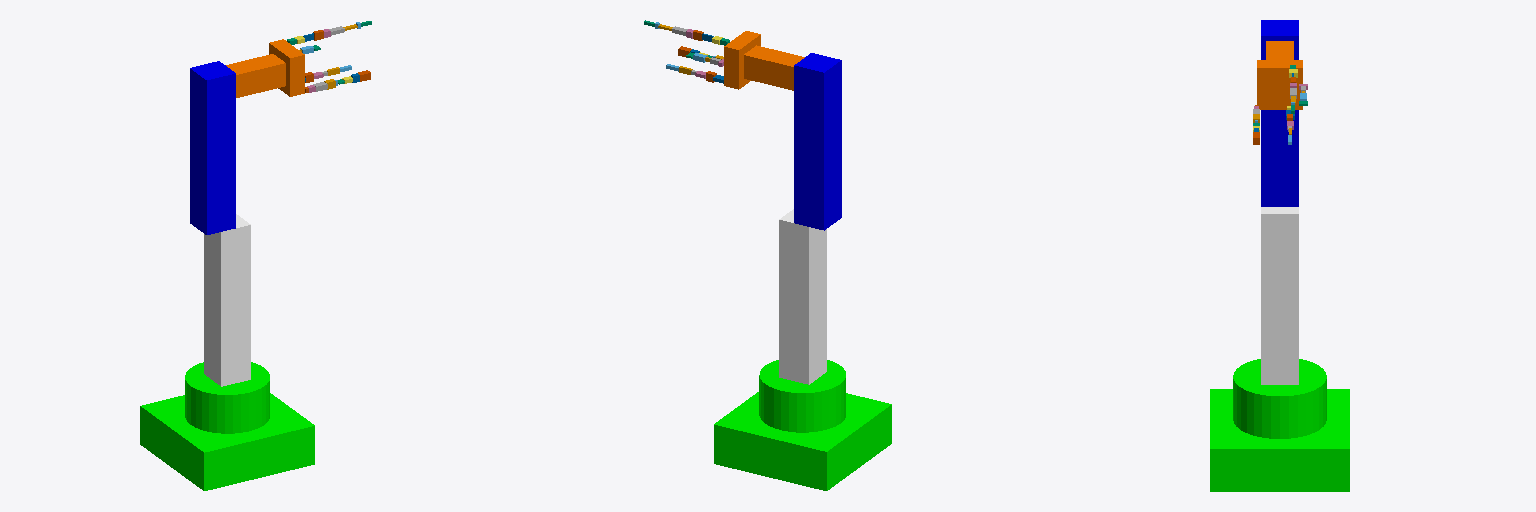
--- Render facts (derived) ---
3 views of the same robot in one strip: view 1: azimuth 30°, elevation 25°; view 2: azimuth 150°, elevation 25°; view 3: azimuth 270°, elevation 25° (orthographic).
Model robot with 35 links and 34 joints (31 revolute, 1 continuous, 2 fixed), rooted at base_link, posed all joints at 0.
Visible links, largest first — view 1: base_link, arm_link, support_link, wrist_link, palm_link; view 2: base_link, arm_link, support_link, wrist_link, palm_link; view 3: base_link, support_link, arm_link, palm_link, wrist_link.
Link boxes in pixels (x1=…): base_link: x1=140, y1=362, x2=314, y2=490; arm_link: x1=190, y1=61, x2=235, y2=234; support_link: x1=204, y1=214, x2=250, y2=386; wrist_link: x1=226, y1=54, x2=285, y2=97; palm_link: x1=269, y1=39, x2=304, y2=96; base_link: x1=714, y1=360, x2=891, y2=490; arm_link: x1=794, y1=53, x2=841, y2=230; support_link: x1=779, y1=209, x2=826, y2=384; wrist_link: x1=744, y1=45, x2=804, y2=90; palm_link: x1=724, y1=31, x2=760, y2=89; base_link: x1=1210, y1=359, x2=1349, y2=491; support_link: x1=1261, y1=207, x2=1298, y2=384; arm_link: x1=1261, y1=20, x2=1298, y2=206; palm_link: x1=1257, y1=60, x2=1302, y2=109; wrist_link: x1=1266, y1=41, x2=1293, y2=59.
Bounding box of the posed robot: 1.38 × 0.75 × 2.55 m (x, y, z).
Geometry: primitives only (box / cylinder / sphere), no mesh files.

robot.urdf — robot:
<?xml version='1.0' encoding='utf-8'?>
<robot name="robot">
  <link name="base_link">
    <visual>
      <origin xyz="0 0 0.125" rpy="0 0 0" />
      <geometry>
        <box size="0.75 0.75 0.25" />
      </geometry>
      <material name="green" />
    </visual>
    <visual>
      <origin xyz="0 0 0.375" rpy="0 0 0" />
      <geometry>
        <cylinder length="0.25" radius="0.25" />
      </geometry>
      <material name="green">
        <color rgba="0 1 0 1" />
      </material>
    </visual>
    <collision>
      <geometry>
        <box size="0.75 0.75 0.5" />
      </geometry>
    </collision>
    <inertial>
      <mass value="0.5" />
      <inertia ixx="0.034" ixy="0.0" ixz="0.0" iyy="0.034" iyz="0.0" izz="0.034" />
    </inertial>
  </link>
  <link name="support_link">
    <visual>
      <origin xyz="0 0 0.5" rpy="0 0 0" />
      <geometry>
        <box size="0.2 0.2 1" />
      </geometry>
      <material name="white">
        <color rgba="1 1 1 1" />
      </material>
    </visual>
    <collision>
      <geometry>
        <box size="0.2 0.2 1" />
      </geometry>
    </collision>
    <inertial>
      <mass value="0.1" />
      <inertia ixx="0.01" ixy="0.0" ixz="0.0" iyy="0.01" iyz="0.0" izz="0.01" />
    </inertial>
  </link>
  <joint name="support_joint" type="continuous">
    <origin xyz="0 0 0.5" rpy="0 0 0" />
    <parent link="base_link" />
    <child link="support_link" />
    <axis xyz="0 0 1" />
  </joint>
  <link name="arm_link">
    <visual>
      <origin xyz="0 0 0.5" rpy="0 0 0" />
      <geometry>
        <box size="0.2 0.2 1" />
      </geometry>
      <material name="blue">
        <color rgba="0 0 1 1" />
      </material>
    </visual>
    <collision>
      <geometry>
        <box size="0.2 0.2 1" />
      </geometry>
    </collision>
    <inertial>
      <mass value="0.1" />
      <inertia ixx="0.01" ixy="0.0" ixz="0.0" iyy="0.01" iyz="0.0" izz="0.01" />
    </inertial>
  </link>
  <joint name="arm_joint" type="revolute">
    <origin xyz="-0.1 0 1" rpy="0 0 0" />
    <parent link="support_link" />
    <child link="arm_link" />
    <axis xyz="0 1 0" />
    <limit lower="-3.14" upper="3.14" effort="1.0" velocity="1.0" />
  </joint>
  <link name="wrist_link">
    <visual>
      <origin xyz="0 0 0.25" rpy="0 0 0" />
      <geometry>
        <box size="0.15 0.15 0.5" />
      </geometry>
      <material name="orange">
        <color rgba="1 0.5 0 1" />
      </material>
    </visual>
    <collision>
      <geometry>
        <box size="0.15 0.15 0.5" />
      </geometry>
    </collision>
    <inertial>
      <mass value="0.1" />
      <inertia ixx="0.01" ixy="0.0" ixz="0.0" iyy="0.01" iyz="0.0" izz="0.01" />
    </inertial>
  </link>
  <joint name="wrist_joint" type="fixed">
    <origin xyz="0 0 0.9" rpy="0 1.571 0" />
    <parent link="arm_link" />
    <child link="wrist_link" />
  </joint>
  <link name="palm_link">
    <visual>
      <origin xyz="0 0 0.05" rpy="0 0 0" />
      <geometry>
        <box size="0.25 0.25 0.1" />
      </geometry>
      <material name="orange" />
    </visual>
    <collision>
      <geometry>
        <box size="0.25 0.25 0.1" />
      </geometry>
    </collision>
    <inertial>
      <mass value="0.1" />
      <inertia ixx="0.01" ixy="0.0" ixz="0.0" iyy="0.01" iyz="0.0" izz="0.01" />
    </inertial>
  </link>
  <joint name="palm_joint" type="fixed">
    <origin xyz="0 0 0.45" rpy="0 0 0" />
    <parent link="wrist_link" />
    <child link="palm_link" />
  </joint>
  <link name="finger_link_0_0">
    <visual>
      <origin xyz="0 0 0.0105" rpy="0 0 0" />
      <geometry>
        <box size="0.027 0.019 0.021" />
      </geometry>
    </visual>
    <collision>
      <geometry>
        <box size="0.027 0.019 0.021" />
      </geometry>
    </collision>
    <inertial>
      <mass value="0.003" />
      <inertia ixx="0.0" iyy="0.0" izz="0.0" ixy="0" ixz="0" iyz="0" />
    </inertial>
  </link>
  <joint name="finger_joint_palm_link_to_finger_link_0_0" type="revolute">
    <origin xyz="0.105 -0.125 0.1" rpy="0 0 0" />
    <parent link="palm_link" />
    <child link="finger_link_0_0" />
    <axis xyz="1.0 0.0 0.0" />
    <limit lower="-3.142" upper="3.142" effort="10" velocity="10" />
  </joint>
  <link name="finger_link_0_1">
    <visual>
      <origin xyz="0 0 0.021" rpy="0 0 0" />
      <geometry>
        <box size="0.031 0.03 0.042" />
      </geometry>
    </visual>
    <collision>
      <geometry>
        <box size="0.031 0.03 0.042" />
      </geometry>
    </collision>
    <inertial>
      <mass value="0.012" />
      <inertia ixx="0.0" iyy="0.0" izz="0.0" ixy="0" ixz="0" iyz="0" />
    </inertial>
  </link>
  <joint name="finger_joint_finger_link_0_0_to_finger_link_0_1" type="revolute">
    <origin xyz="0.0 0.0 0.021" rpy="0 0 0" />
    <parent link="finger_link_0_0" />
    <child link="finger_link_0_1" />
    <axis xyz="1.0 0.0 0.0" />
    <limit lower="-3.142" upper="3.142" effort="10" velocity="10" />
  </joint>
  <link name="finger_link_0_2">
    <visual>
      <origin xyz="0 0 0.0385" rpy="0 0 0" />
      <geometry>
        <box size="0.033 0.042 0.077" />
      </geometry>
    </visual>
    <collision>
      <geometry>
        <box size="0.033 0.042 0.077" />
      </geometry>
    </collision>
    <inertial>
      <mass value="0.032" />
      <inertia ixx="0.0" iyy="0.0" izz="0.0" ixy="0" ixz="0" iyz="0" />
    </inertial>
  </link>
  <joint name="finger_joint_finger_link_0_1_to_finger_link_0_2" type="revolute">
    <origin xyz="0.0 0.0 0.042" rpy="0 0 0" />
    <parent link="finger_link_0_1" />
    <child link="finger_link_0_2" />
    <axis xyz="1.0 0.0 0.0" />
    <limit lower="-3.142" upper="3.142" effort="10" velocity="10" />
  </joint>
  <link name="finger_link_0_3">
    <visual>
      <origin xyz="0 0 0.029" rpy="0 0 0" />
      <geometry>
        <box size="0.044 0.033 0.058" />
      </geometry>
    </visual>
    <collision>
      <geometry>
        <box size="0.044 0.033 0.058" />
      </geometry>
    </collision>
    <inertial>
      <mass value="0.025" />
      <inertia ixx="0.0" iyy="0.0" izz="0.0" ixy="0" ixz="0" iyz="0" />
    </inertial>
  </link>
  <joint name="finger_joint_finger_link_0_2_to_finger_link_0_3" type="revolute">
    <origin xyz="0.0 0.0 0.077" rpy="0 0 0" />
    <parent link="finger_link_0_2" />
    <child link="finger_link_0_3" />
    <axis xyz="0.0 1.0 0.0" />
    <limit lower="-3.142" upper="3.142" effort="10" velocity="10" />
  </joint>
  <link name="finger_link_0_4">
    <visual>
      <origin xyz="0 0 0.0105" rpy="0 0 0" />
      <geometry>
        <box size="0.036 0.012 0.021" />
      </geometry>
    </visual>
    <collision>
      <geometry>
        <box size="0.036 0.012 0.021" />
      </geometry>
    </collision>
    <inertial>
      <mass value="0.003" />
      <inertia ixx="0.0" iyy="0.0" izz="0.0" ixy="0" ixz="0" iyz="0" />
    </inertial>
  </link>
  <joint name="finger_joint_finger_link_0_3_to_finger_link_0_4" type="revolute">
    <origin xyz="0.0 0.0 0.058" rpy="0 0 0" />
    <parent link="finger_link_0_3" />
    <child link="finger_link_0_4" />
    <axis xyz="0.0 1.0 0.0" />
    <limit lower="-3.142" upper="3.142" effort="10" velocity="10" />
  </joint>
  <link name="finger_link_0_5">
    <visual>
      <origin xyz="0 0 0.0205" rpy="0 0 0" />
      <geometry>
        <box size="0.01 0.042 0.041" />
      </geometry>
    </visual>
    <collision>
      <geometry>
        <box size="0.01 0.042 0.041" />
      </geometry>
    </collision>
    <inertial>
      <mass value="0.005" />
      <inertia ixx="0.0" iyy="0.0" izz="0.0" ixy="0" ixz="0" iyz="0" />
    </inertial>
  </link>
  <joint name="finger_joint_finger_link_0_4_to_finger_link_0_5" type="revolute">
    <origin xyz="0.0 0.0 0.021" rpy="0 0 0" />
    <parent link="finger_link_0_4" />
    <child link="finger_link_0_5" />
    <axis xyz="0.0 1.0 0.0" />
    <limit lower="-3.142" upper="3.142" effort="10" velocity="10" />
  </joint>
  <link name="finger_link_0_6">
    <visual>
      <origin xyz="0 0 0.028" rpy="0 0 0" />
      <geometry>
        <box size="0.023 0.038 0.056" />
      </geometry>
    </visual>
    <collision>
      <geometry>
        <box size="0.023 0.038 0.056" />
      </geometry>
    </collision>
    <inertial>
      <mass value="0.015" />
      <inertia ixx="0.0" iyy="0.0" izz="0.0" ixy="0" ixz="0" iyz="0" />
    </inertial>
  </link>
  <joint name="finger_joint_finger_link_0_5_to_finger_link_0_6" type="revolute">
    <origin xyz="0.0 0.0 0.041" rpy="0 0 0" />
    <parent link="finger_link_0_5" />
    <child link="finger_link_0_6" />
    <axis xyz="0.0 1.0 0.0" />
    <limit lower="-3.142" upper="3.142" effort="10" velocity="10" />
  </joint>
  <link name="finger_link_0_7">
    <visual>
      <origin xyz="0 0 0.0225" rpy="0 0 0" />
      <geometry>
        <box size="0.043 0.03 0.045" />
      </geometry>
    </visual>
    <collision>
      <geometry>
        <box size="0.043 0.03 0.045" />
      </geometry>
    </collision>
    <inertial>
      <mass value="0.017" />
      <inertia ixx="0.0" iyy="0.0" izz="0.0" ixy="0" ixz="0" iyz="0" />
    </inertial>
  </link>
  <joint name="finger_joint_finger_link_0_6_to_finger_link_0_7" type="revolute">
    <origin xyz="0.0 0.0 0.056" rpy="0 0 0" />
    <parent link="finger_link_0_6" />
    <child link="finger_link_0_7" />
    <axis xyz="1.0 0.0 0.0" />
    <limit lower="-3.142" upper="3.142" effort="10" velocity="10" />
  </joint>
  <link name="finger_link_0_8">
    <visual>
      <origin xyz="0 0 0.0375" rpy="0 0 0" />
      <geometry>
        <box size="0.043 0.041 0.075" />
      </geometry>
    </visual>
    <collision>
      <geometry>
        <box size="0.043 0.041 0.075" />
      </geometry>
    </collision>
    <inertial>
      <mass value="0.04" />
      <inertia ixx="0.0" iyy="0.0" izz="0.0" ixy="0" ixz="0" iyz="0" />
    </inertial>
  </link>
  <joint name="finger_joint_finger_link_0_7_to_finger_link_0_8" type="revolute">
    <origin xyz="0.0 0.0 0.045" rpy="0 0 0" />
    <parent link="finger_link_0_7" />
    <child link="finger_link_0_8" />
    <axis xyz="1.0 0.0 0.0" />
    <limit lower="-3.142" upper="3.142" effort="10" velocity="10" />
  </joint>
  <link name="finger_link_1_0">
    <visual>
      <origin xyz="0 0 0.0125" rpy="0 0 0" />
      <geometry>
        <box size="0.025 0.05 0.025" />
      </geometry>
    </visual>
    <collision>
      <geometry>
        <box size="0.025 0.05 0.025" />
      </geometry>
    </collision>
    <inertial>
      <mass value="0.009" />
      <inertia ixx="0.0" iyy="0.0" izz="0.0" ixy="0" ixz="0" iyz="0" />
    </inertial>
  </link>
  <joint name="finger_joint_palm_link_to_finger_link_1_0" type="revolute">
    <origin xyz="-0.017 0.125 0.1" rpy="0 0 0" />
    <parent link="palm_link" />
    <child link="finger_link_1_0" />
    <axis xyz="1.0 0.0 0.0" />
    <limit lower="-3.142" upper="3.142" effort="10" velocity="10" />
  </joint>
  <link name="finger_link_1_1">
    <visual>
      <origin xyz="0 0 0.0295" rpy="0 0 0" />
      <geometry>
        <box size="0.029 0.026 0.059" />
      </geometry>
    </visual>
    <collision>
      <geometry>
        <box size="0.029 0.026 0.059" />
      </geometry>
    </collision>
    <inertial>
      <mass value="0.013" />
      <inertia ixx="0.0" iyy="0.0" izz="0.0" ixy="0" ixz="0" iyz="0" />
    </inertial>
  </link>
  <joint name="finger_joint_finger_link_1_0_to_finger_link_1_1" type="revolute">
    <origin xyz="0.0 0.0 0.025" rpy="0 0 0" />
    <parent link="finger_link_1_0" />
    <child link="finger_link_1_1" />
    <axis xyz="1.0 0.0 0.0" />
    <limit lower="-3.142" upper="3.142" effort="10" velocity="10" />
  </joint>
  <link name="finger_link_1_2">
    <visual>
      <origin xyz="0 0 0.018" rpy="0 0 0" />
      <geometry>
        <box size="0.024 0.012 0.036" />
      </geometry>
    </visual>
    <collision>
      <geometry>
        <box size="0.024 0.012 0.036" />
      </geometry>
    </collision>
    <inertial>
      <mass value="0.003" />
      <inertia ixx="0.0" iyy="0.0" izz="0.0" ixy="0" ixz="0" iyz="0" />
    </inertial>
  </link>
  <joint name="finger_joint_finger_link_1_1_to_finger_link_1_2" type="revolute">
    <origin xyz="0.0 0.0 0.059" rpy="0 0 0" />
    <parent link="finger_link_1_1" />
    <child link="finger_link_1_2" />
    <axis xyz="0.0 1.0 0.0" />
    <limit lower="-3.142" upper="3.142" effort="10" velocity="10" />
  </joint>
  <link name="finger_link_1_3">
    <visual>
      <origin xyz="0 0 0.038" rpy="0 0 0" />
      <geometry>
        <box size="0.031 0.035 0.076" />
      </geometry>
    </visual>
    <collision>
      <geometry>
        <box size="0.031 0.035 0.076" />
      </geometry>
    </collision>
    <inertial>
      <mass value="0.025" />
      <inertia ixx="0.0" iyy="0.0" izz="0.0" ixy="0" ixz="0" iyz="0" />
    </inertial>
  </link>
  <joint name="finger_joint_finger_link_1_2_to_finger_link_1_3" type="revolute">
    <origin xyz="0.0 0.0 0.036" rpy="0 0 0" />
    <parent link="finger_link_1_2" />
    <child link="finger_link_1_3" />
    <axis xyz="1.0 0.0 0.0" />
    <limit lower="-3.142" upper="3.142" effort="10" velocity="10" />
  </joint>
  <link name="finger_link_1_4">
    <visual>
      <origin xyz="0 0 0.02" rpy="0 0 0" />
      <geometry>
        <box size="0.012 0.048 0.04" />
      </geometry>
    </visual>
    <collision>
      <geometry>
        <box size="0.012 0.048 0.04" />
      </geometry>
    </collision>
    <inertial>
      <mass value="0.007" />
      <inertia ixx="0.0" iyy="0.0" izz="0.0" ixy="0" ixz="0" iyz="0" />
    </inertial>
  </link>
  <joint name="finger_joint_finger_link_1_3_to_finger_link_1_4" type="revolute">
    <origin xyz="0.0 0.0 0.076" rpy="0 0 0" />
    <parent link="finger_link_1_3" />
    <child link="finger_link_1_4" />
    <axis xyz="0.0 1.0 0.0" />
    <limit lower="-3.142" upper="3.142" effort="10" velocity="10" />
  </joint>
  <link name="finger_link_2_0">
    <visual>
      <origin xyz="0 0 0.011" rpy="0 0 0" />
      <geometry>
        <box size="0.049 0.035 0.022" />
      </geometry>
    </visual>
    <collision>
      <geometry>
        <box size="0.049 0.035 0.022" />
      </geometry>
    </collision>
    <inertial>
      <mass value="0.011" />
      <inertia ixx="0.0" iyy="0.0" izz="0.0" ixy="0" ixz="0" iyz="0" />
    </inertial>
  </link>
  <joint name="finger_joint_palm_link_to_finger_link_2_0" type="revolute">
    <origin xyz="0.125 0.055 0.1" rpy="0 0 0" />
    <parent link="palm_link" />
    <child link="finger_link_2_0" />
    <axis xyz="1.0 0.0 0.0" />
    <limit lower="-3.142" upper="3.142" effort="10" velocity="10" />
  </joint>
  <link name="finger_link_2_1">
    <visual>
      <origin xyz="0 0 0.0385" rpy="0 0 0" />
      <geometry>
        <box size="0.023 0.045 0.077" />
      </geometry>
    </visual>
    <collision>
      <geometry>
        <box size="0.023 0.045 0.077" />
      </geometry>
    </collision>
    <inertial>
      <mass value="0.024" />
      <inertia ixx="0.0" iyy="0.0" izz="0.0" ixy="0" ixz="0" iyz="0" />
    </inertial>
  </link>
  <joint name="finger_joint_finger_link_2_0_to_finger_link_2_1" type="revolute">
    <origin xyz="0.0 0.0 0.022" rpy="0 0 0" />
    <parent link="finger_link_2_0" />
    <child link="finger_link_2_1" />
    <axis xyz="1.0 0.0 0.0" />
    <limit lower="-3.142" upper="3.142" effort="10" velocity="10" />
  </joint>
  <link name="finger_link_2_2">
    <visual>
      <origin xyz="0 0 0.0275" rpy="0 0 0" />
      <geometry>
        <box size="0.05 0.032 0.055" />
      </geometry>
    </visual>
    <collision>
      <geometry>
        <box size="0.05 0.032 0.055" />
      </geometry>
    </collision>
    <inertial>
      <mass value="0.026" />
      <inertia ixx="0.0" iyy="0.0" izz="0.0" ixy="0" ixz="0" iyz="0" />
    </inertial>
  </link>
  <joint name="finger_joint_finger_link_2_1_to_finger_link_2_2" type="revolute">
    <origin xyz="0.0 0.0 0.077" rpy="0 0 0" />
    <parent link="finger_link_2_1" />
    <child link="finger_link_2_2" />
    <axis xyz="1.0 0.0 0.0" />
    <limit lower="-3.142" upper="3.142" effort="10" velocity="10" />
  </joint>
  <link name="finger_link_2_3">
    <visual>
      <origin xyz="0 0 0.033" rpy="0 0 0" />
      <geometry>
        <box size="0.021 0.039 0.066" />
      </geometry>
    </visual>
    <collision>
      <geometry>
        <box size="0.021 0.039 0.066" />
      </geometry>
    </collision>
    <inertial>
      <mass value="0.016" />
      <inertia ixx="0.0" iyy="0.0" izz="0.0" ixy="0" ixz="0" iyz="0" />
    </inertial>
  </link>
  <joint name="finger_joint_finger_link_2_2_to_finger_link_2_3" type="revolute">
    <origin xyz="0.0 0.0 0.055" rpy="0 0 0" />
    <parent link="finger_link_2_2" />
    <child link="finger_link_2_3" />
    <axis xyz="1.0 0.0 0.0" />
    <limit lower="-3.142" upper="3.142" effort="10" velocity="10" />
  </joint>
  <link name="finger_link_2_4">
    <visual>
      <origin xyz="0 0 0.017" rpy="0 0 0" />
      <geometry>
        <box size="0.021 0.02 0.034" />
      </geometry>
    </visual>
    <collision>
      <geometry>
        <box size="0.021 0.02 0.034" />
      </geometry>
    </collision>
    <inertial>
      <mass value="0.004" />
      <inertia ixx="0.0" iyy="0.0" izz="0.0" ixy="0" ixz="0" iyz="0" />
    </inertial>
  </link>
  <joint name="finger_joint_finger_link_2_3_to_finger_link_2_4" type="revolute">
    <origin xyz="0.0 0.0 0.066" rpy="0 0 0" />
    <parent link="finger_link_2_3" />
    <child link="finger_link_2_4" />
    <axis xyz="0.0 1.0 0.0" />
    <limit lower="-3.142" upper="3.142" effort="10" velocity="10" />
  </joint>
  <link name="finger_link_2_5">
    <visual>
      <origin xyz="0 0 0.0395" rpy="0 0 0" />
      <geometry>
        <box size="0.034 0.018 0.079" />
      </geometry>
    </visual>
    <collision>
      <geometry>
        <box size="0.034 0.018 0.079" />
      </geometry>
    </collision>
    <inertial>
      <mass value="0.015" />
      <inertia ixx="0.0" iyy="0.0" izz="0.0" ixy="0" ixz="0" iyz="0" />
    </inertial>
  </link>
  <joint name="finger_joint_finger_link_2_4_to_finger_link_2_5" type="revolute">
    <origin xyz="0.0 0.0 0.034" rpy="0 0 0" />
    <parent link="finger_link_2_4" />
    <child link="finger_link_2_5" />
    <axis xyz="0.0 1.0 0.0" />
    <limit lower="-3.142" upper="3.142" effort="10" velocity="10" />
  </joint>
  <link name="finger_link_2_6">
    <visual>
      <origin xyz="0 0 0.042" rpy="0 0 0" />
      <geometry>
        <box size="0.021 0.023 0.084" />
      </geometry>
    </visual>
    <collision>
      <geometry>
        <box size="0.021 0.023 0.084" />
      </geometry>
    </collision>
    <inertial>
      <mass value="0.012" />
      <inertia ixx="0.0" iyy="0.0" izz="0.0" ixy="0" ixz="0" iyz="0" />
    </inertial>
  </link>
  <joint name="finger_joint_finger_link_2_5_to_finger_link_2_6" type="revolute">
    <origin xyz="0.0 0.0 0.079" rpy="0 0 0" />
    <parent link="finger_link_2_5" />
    <child link="finger_link_2_6" />
    <axis xyz="0.0 1.0 0.0" />
    <limit lower="-3.142" upper="3.142" effort="10" velocity="10" />
  </joint>
  <link name="finger_link_3_0">
    <visual>
      <origin xyz="0 0 0.0245" rpy="0 0 0" />
      <geometry>
        <box size="0.028 0.032 0.049" />
      </geometry>
    </visual>
    <collision>
      <geometry>
        <box size="0.028 0.032 0.049" />
      </geometry>
    </collision>
    <inertial>
      <mass value="0.013" />
      <inertia ixx="0.0" iyy="0.0" izz="0.0" ixy="0" ixz="0" iyz="0" />
    </inertial>
  </link>
  <joint name="finger_joint_palm_link_to_finger_link_3_0" type="revolute">
    <origin xyz="-0.125 0.07 0.1" rpy="0 0 0" />
    <parent link="palm_link" />
    <child link="finger_link_3_0" />
    <axis xyz="0.0 1.0 0.0" />
    <limit lower="-3.142" upper="3.142" effort="10" velocity="10" />
  </joint>
  <link name="finger_link_3_1">
    <visual>
      <origin xyz="0 0 0.0255" rpy="0 0 0" />
      <geometry>
        <box size="0.027 0.047 0.051" />
      </geometry>
    </visual>
    <collision>
      <geometry>
        <box size="0.027 0.047 0.051" />
      </geometry>
    </collision>
    <inertial>
      <mass value="0.019" />
      <inertia ixx="0.0" iyy="0.0" izz="0.0" ixy="0" ixz="0" iyz="0" />
    </inertial>
  </link>
  <joint name="finger_joint_finger_link_3_0_to_finger_link_3_1" type="revolute">
    <origin xyz="0.0 0.0 0.049" rpy="0 0 0" />
    <parent link="finger_link_3_0" />
    <child link="finger_link_3_1" />
    <axis xyz="1.0 0.0 0.0" />
    <limit lower="-3.142" upper="3.142" effort="10" velocity="10" />
  </joint>
  <link name="finger_link_3_2">
    <visual>
      <origin xyz="0 0 0.036" rpy="0 0 0" />
      <geometry>
        <box size="0.037 0.013 0.072" />
      </geometry>
    </visual>
    <collision>
      <geometry>
        <box size="0.037 0.013 0.072" />
      </geometry>
    </collision>
    <inertial>
      <mass value="0.01" />
      <inertia ixx="0.0" iyy="0.0" izz="0.0" ixy="0" ixz="0" iyz="0" />
    </inertial>
  </link>
  <joint name="finger_joint_finger_link_3_1_to_finger_link_3_2" type="revolute">
    <origin xyz="0.0 0.0 0.051" rpy="0 0 0" />
    <parent link="finger_link_3_1" />
    <child link="finger_link_3_2" />
    <axis xyz="1.0 0.0 0.0" />
    <limit lower="-3.142" upper="3.142" effort="10" velocity="10" />
  </joint>
  <link name="finger_link_3_3">
    <visual>
      <origin xyz="0 0 0.0295" rpy="0 0 0" />
      <geometry>
        <box size="0.049 0.026 0.059" />
      </geometry>
    </visual>
    <collision>
      <geometry>
        <box size="0.049 0.026 0.059" />
      </geometry>
    </collision>
    <inertial>
      <mass value="0.023" />
      <inertia ixx="0.0" iyy="0.0" izz="0.0" ixy="0" ixz="0" iyz="0" />
    </inertial>
  </link>
  <joint name="finger_joint_finger_link_3_2_to_finger_link_3_3" type="revolute">
    <origin xyz="0.0 0.0 0.072" rpy="0 0 0" />
    <parent link="finger_link_3_2" />
    <child link="finger_link_3_3" />
    <axis xyz="0.0 1.0 0.0" />
    <limit lower="-3.142" upper="3.142" effort="10" velocity="10" />
  </joint>
  <link name="finger_link_3_4">
    <visual>
      <origin xyz="0 0 0.022" rpy="0 0 0" />
      <geometry>
        <box size="0.038 0.038 0.044" />
      </geometry>
    </visual>
    <collision>
      <geometry>
        <box size="0.038 0.038 0.044" />
      </geometry>
    </collision>
    <inertial>
      <mass value="0.019" />
      <inertia ixx="0.0" iyy="0.0" izz="0.0" ixy="0" ixz="0" iyz="0" />
    </inertial>
  </link>
  <joint name="finger_joint_finger_link_3_3_to_finger_link_3_4" type="revolute">
    <origin xyz="0.0 0.0 0.059" rpy="0 0 0" />
    <parent link="finger_link_3_3" />
    <child link="finger_link_3_4" />
    <axis xyz="0.0 1.0 0.0" />
    <limit lower="-3.142" upper="3.142" effort="10" velocity="10" />
  </joint>
  <link name="finger_link_3_5">
    <visual>
      <origin xyz="0 0 0.047" rpy="0 0 0" />
      <geometry>
        <box size="0.025 0.038 0.094" />
      </geometry>
    </visual>
    <collision>
      <geometry>
        <box size="0.025 0.038 0.094" />
      </geometry>
    </collision>
    <inertial>
      <mass value="0.027" />
      <inertia ixx="0.0" iyy="0.0" izz="0.0" ixy="0" ixz="0" iyz="0" />
    </inertial>
  </link>
  <joint name="finger_joint_finger_link_3_4_to_finger_link_3_5" type="revolute">
    <origin xyz="0.0 0.0 0.044" rpy="0 0 0" />
    <parent link="finger_link_3_4" />
    <child link="finger_link_3_5" />
    <axis xyz="1.0 0.0 0.0" />
    <limit lower="-3.142" upper="3.142" effort="10" velocity="10" />
  </joint>
  <link name="finger_link_3_6">
    <visual>
      <origin xyz="0 0 0.046" rpy="0 0 0" />
      <geometry>
        <box size="0.013 0.027 0.092" />
      </geometry>
    </visual>
    <collision>
      <geometry>
        <box size="0.013 0.027 0.092" />
      </geometry>
    </collision>
    <inertial>
      <mass value="0.01" />
      <inertia ixx="0.0" iyy="0.0" izz="0.0" ixy="0" ixz="0" iyz="0" />
    </inertial>
  </link>
  <joint name="finger_joint_finger_link_3_5_to_finger_link_3_6" type="revolute">
    <origin xyz="0.0 0.0 0.094" rpy="0 0 0" />
    <parent link="finger_link_3_5" />
    <child link="finger_link_3_6" />
    <axis xyz="1.0 0.0 0.0" />
    <limit lower="-3.142" upper="3.142" effort="10" velocity="10" />
  </joint>
  <link name="finger_link_3_7">
    <visual>
      <origin xyz="0 0 0.0115" rpy="0 0 0" />
      <geometry>
        <box size="0.033 0.023 0.023" />
      </geometry>
    </visual>
    <collision>
      <geometry>
        <box size="0.033 0.023 0.023" />
      </geometry>
    </collision>
    <inertial>
      <mass value="0.005" />
      <inertia ixx="0.0" iyy="0.0" izz="0.0" ixy="0" ixz="0" iyz="0" />
    </inertial>
  </link>
  <joint name="finger_joint_finger_link_3_6_to_finger_link_3_7" type="revolute">
    <origin xyz="0.0 0.0 0.092" rpy="0 0 0" />
    <parent link="finger_link_3_6" />
    <child link="finger_link_3_7" />
    <axis xyz="0.0 1.0 0.0" />
    <limit lower="-3.142" upper="3.142" effort="10" velocity="10" />
  </joint>
  <link name="finger_link_3_8">
    <visual>
      <origin xyz="0 0 0.037" rpy="0 0 0" />
      <geometry>
        <box size="0.018 0.019 0.074" />
      </geometry>
    </visual>
    <collision>
      <geometry>
        <box size="0.018 0.019 0.074" />
      </geometry>
    </collision>
    <inertial>
      <mass value="0.008" />
      <inertia ixx="0.0" iyy="0.0" izz="0.0" ixy="0" ixz="0" iyz="0" />
    </inertial>
  </link>
  <joint name="finger_joint_finger_link_3_7_to_finger_link_3_8" type="revolute">
    <origin xyz="0.0 0.0 0.023" rpy="0 0 0" />
    <parent link="finger_link_3_7" />
    <child link="finger_link_3_8" />
    <axis xyz="0.0 1.0 0.0" />
    <limit lower="-3.142" upper="3.142" effort="10" velocity="10" />
  </joint>
</robot>
